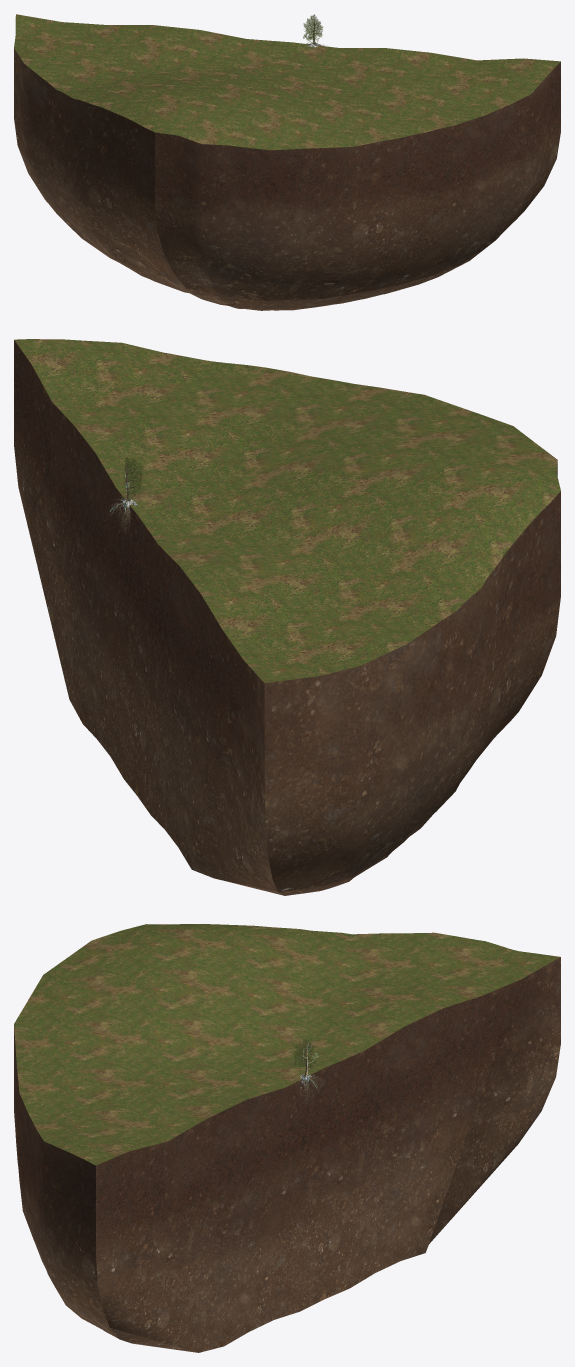
Rendered from tree.gltf.
3 renders of one model, top to bottom at view 1: azimuth 30°, elevation 25°; view 2: azimuth 150°, elevation 25°; view 3: azimuth 270°, elevation 25°, orthographic. The views are drawn at different scales.
Parts seen in each view (by area): view 1: Plane, w; view 2: Plane, w; view 3: Plane, w.
Part boxes in pixels (x1=…): Plane: x1=14, y1=14, x2=560, y2=310; w: x1=303, y1=14, x2=323, y2=45; Plane: x1=14, y1=339, x2=560, y2=895; w: x1=108, y1=457, x2=144, y2=531; Plane: x1=14, y1=924, x2=560, y2=1352; w: x1=292, y1=1039, x2=324, y2=1103.
Size of the model in its own units: 165 by 92.57 by 159.
